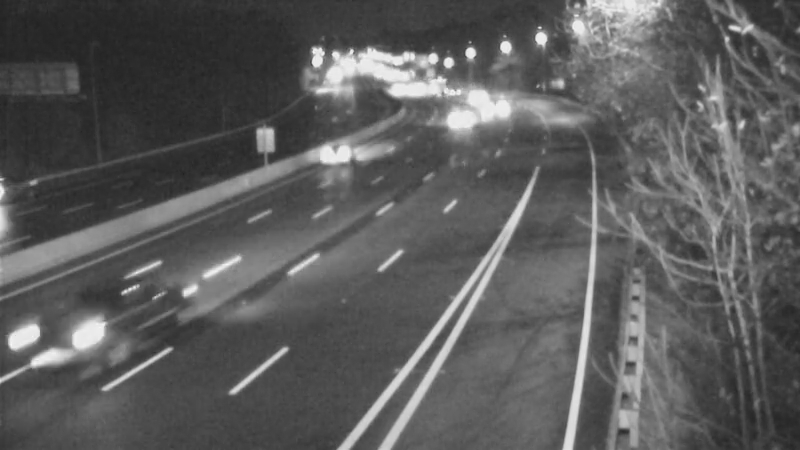vehicle: (9, 287, 119, 397), (1, 156, 64, 236), (443, 70, 493, 120), (463, 87, 513, 137), (426, 98, 476, 148), (316, 123, 366, 173)
